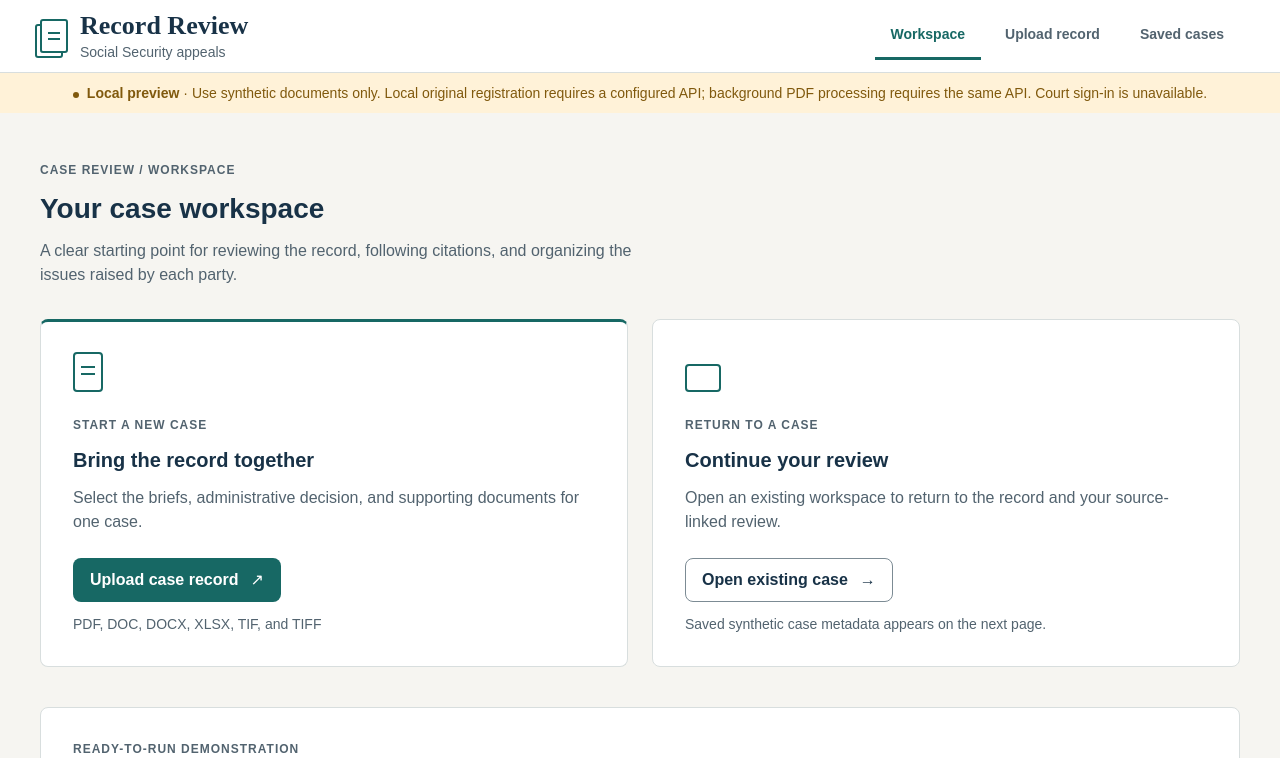
Scenario: moves focus to each new page after in-app navigation without taking initial focus
Click the link "Upload record" at coordinates (1052, 34), box left=1005, top=26, right=1100, bottom=42
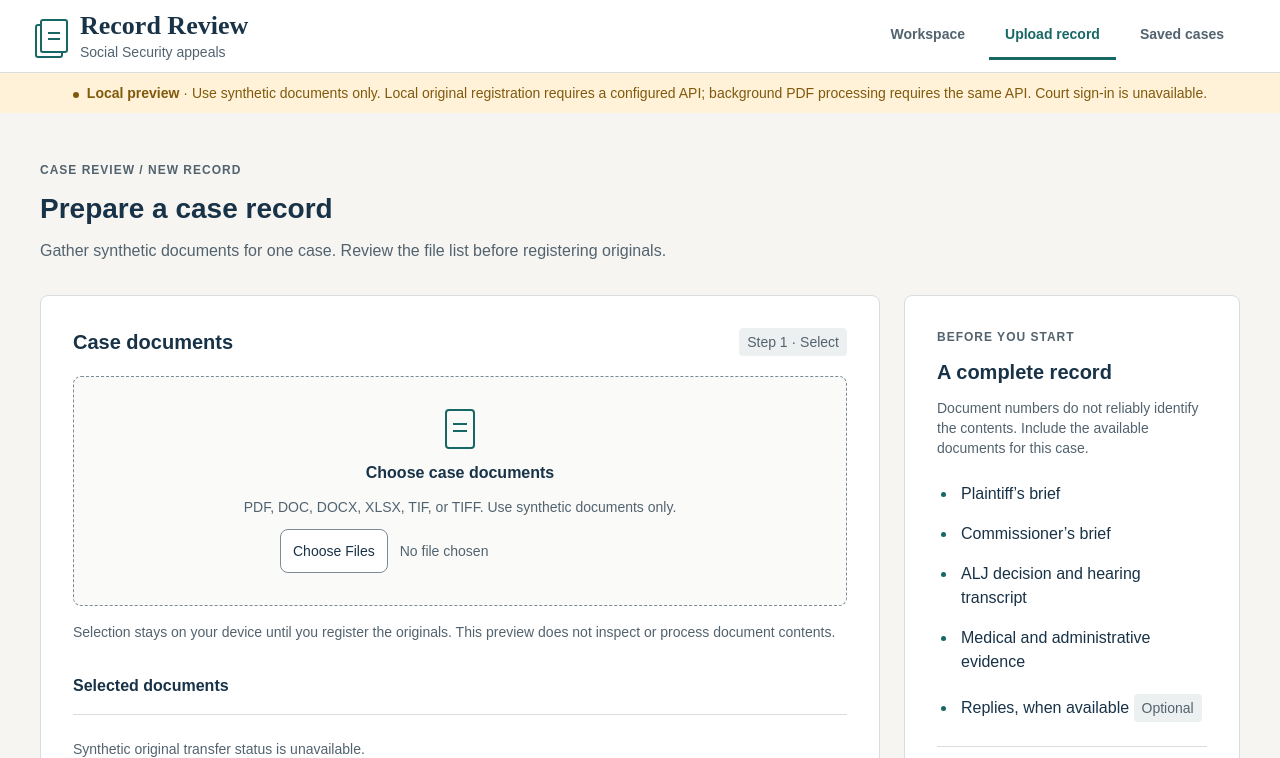
Check: the heading "Prepare a case record" is shown, box left=40, top=193, right=333, bottom=224
Click the link "Saved cases" at coordinates (1182, 34), box left=1140, top=26, right=1224, bottom=42
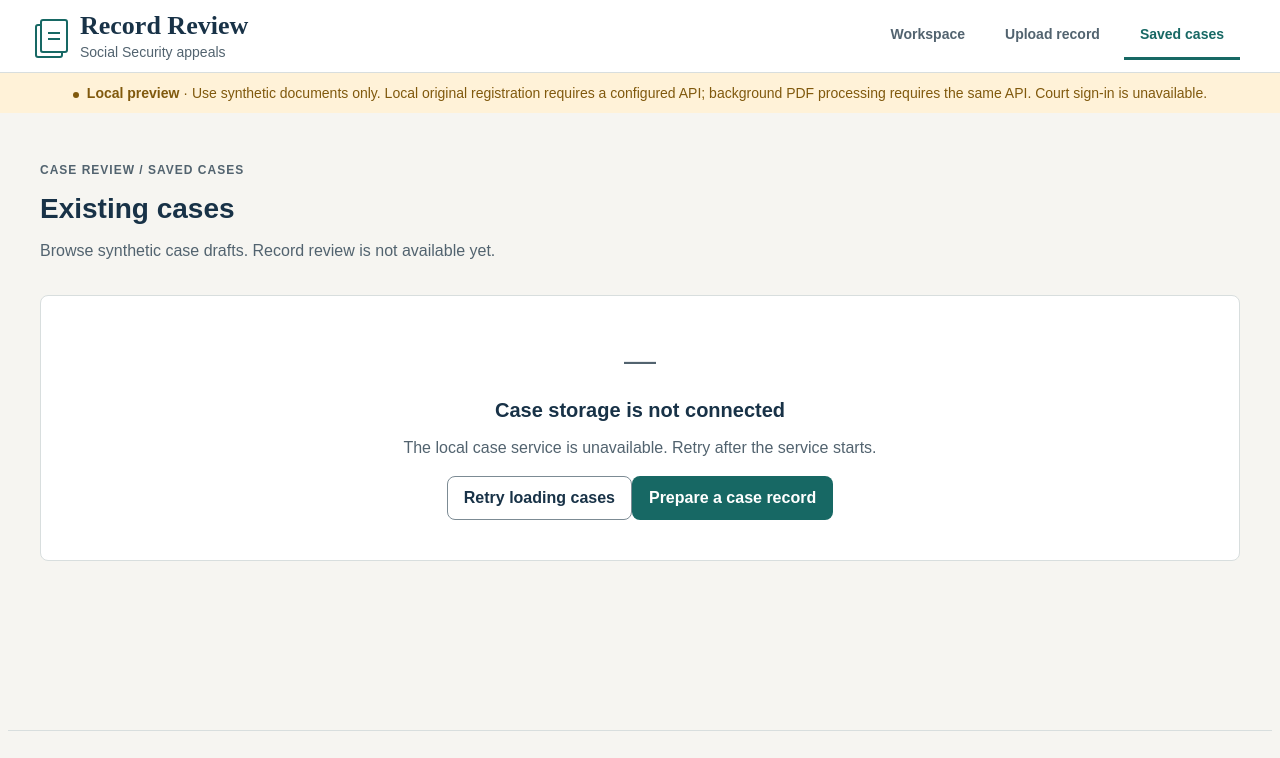
Check: the heading "Existing cases" is shown, box left=40, top=193, right=235, bottom=224
Click the link "Workspace" at coordinates (928, 34), box left=891, top=26, right=965, bottom=42
(page scrolled)
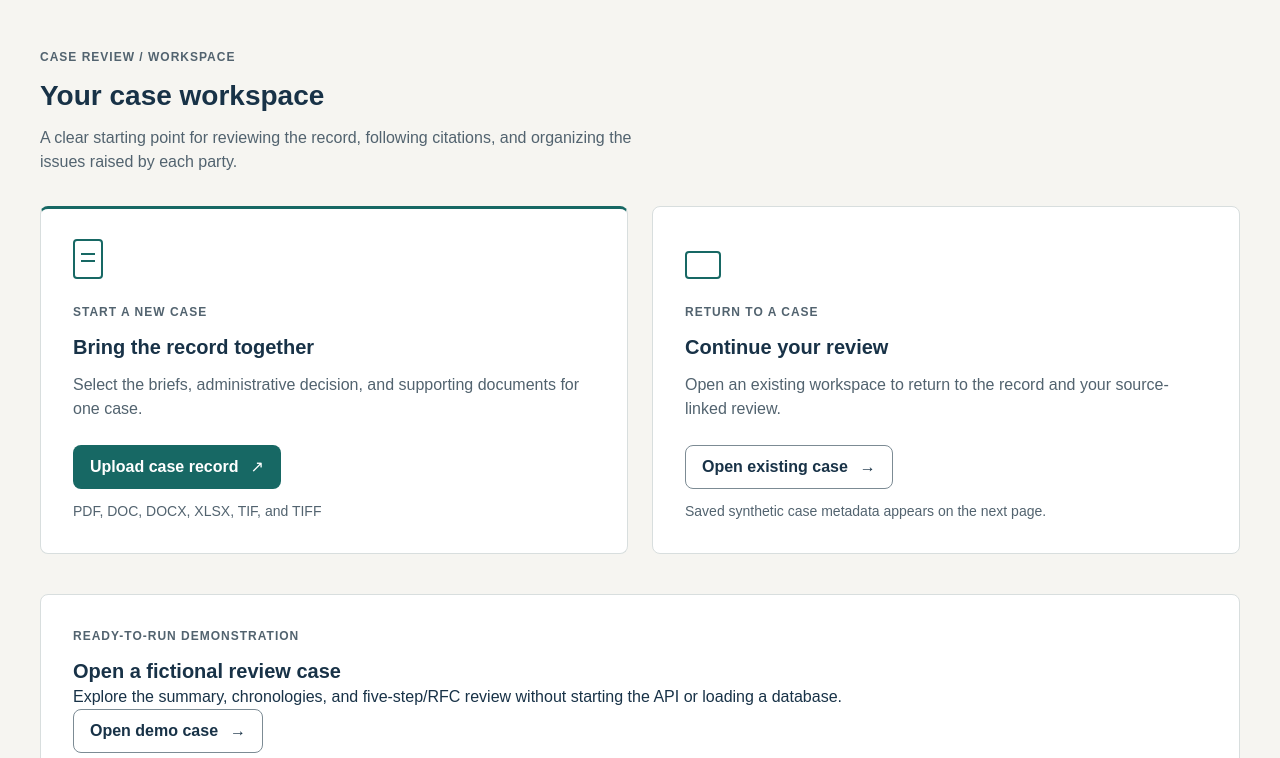
Check: the heading "Your case workspace" is shown, box left=40, top=80, right=324, bottom=111
